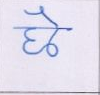au_matra: (35, 7, 63, 47)
